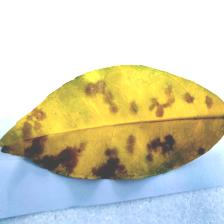canker: (10, 110, 208, 182)
